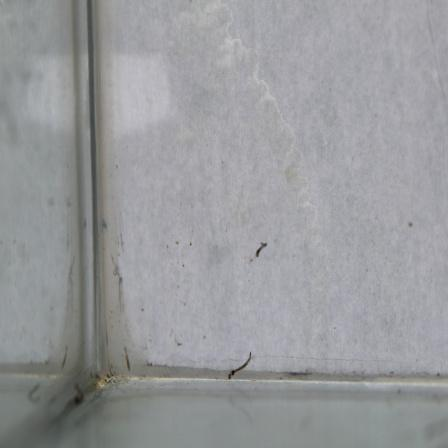Jentik-Nyamuk: (225, 348, 254, 382), (251, 236, 271, 263)
